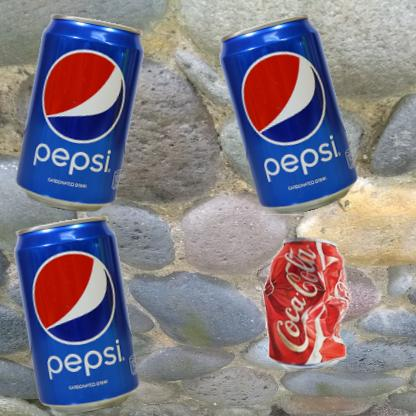lata: (213, 10, 382, 252), (213, 213, 408, 409), (10, 10, 161, 239), (10, 213, 153, 416)
